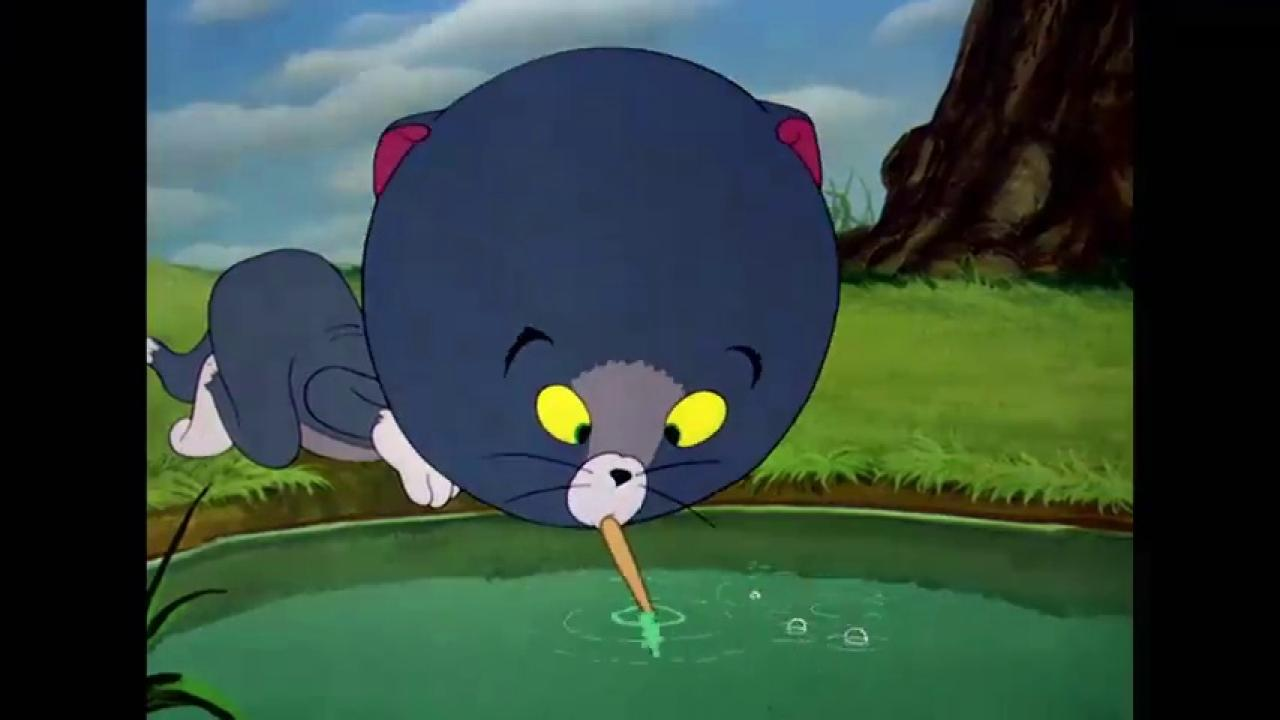Tom: (147, 44, 844, 532)
